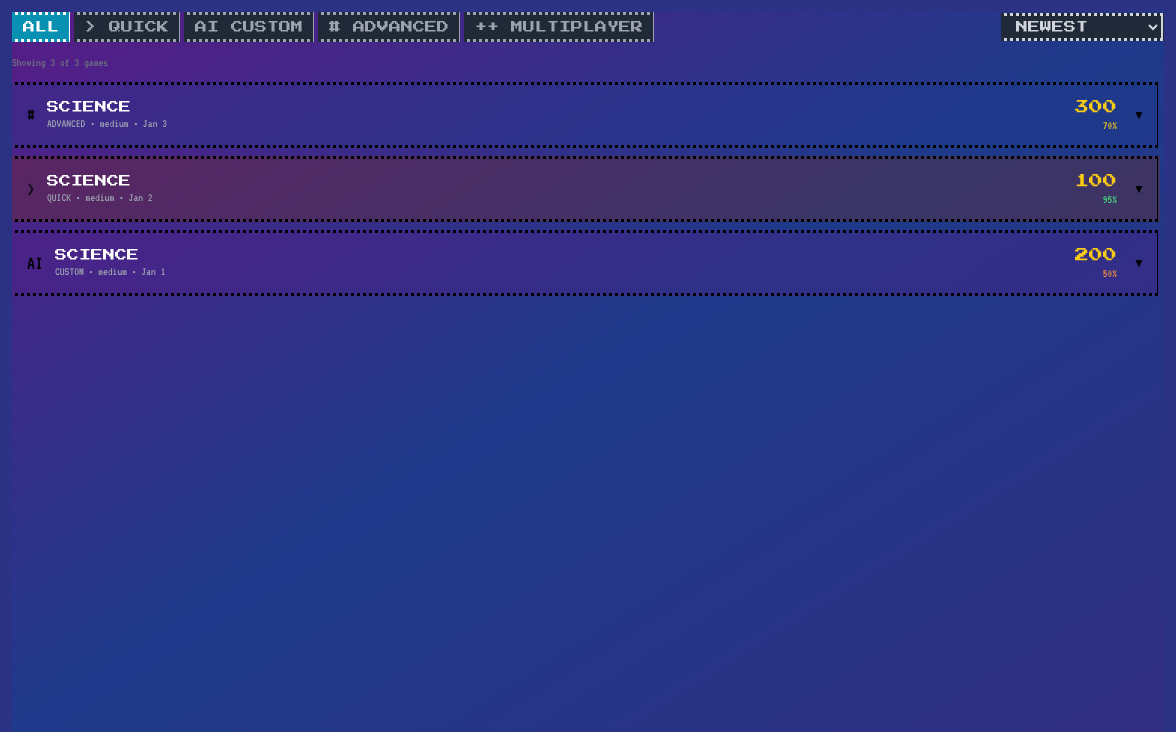
Test: GameHistoryList › with entries › filters by mode
Click the button "> QUICK" at (127, 27), box [74,12,180,42]
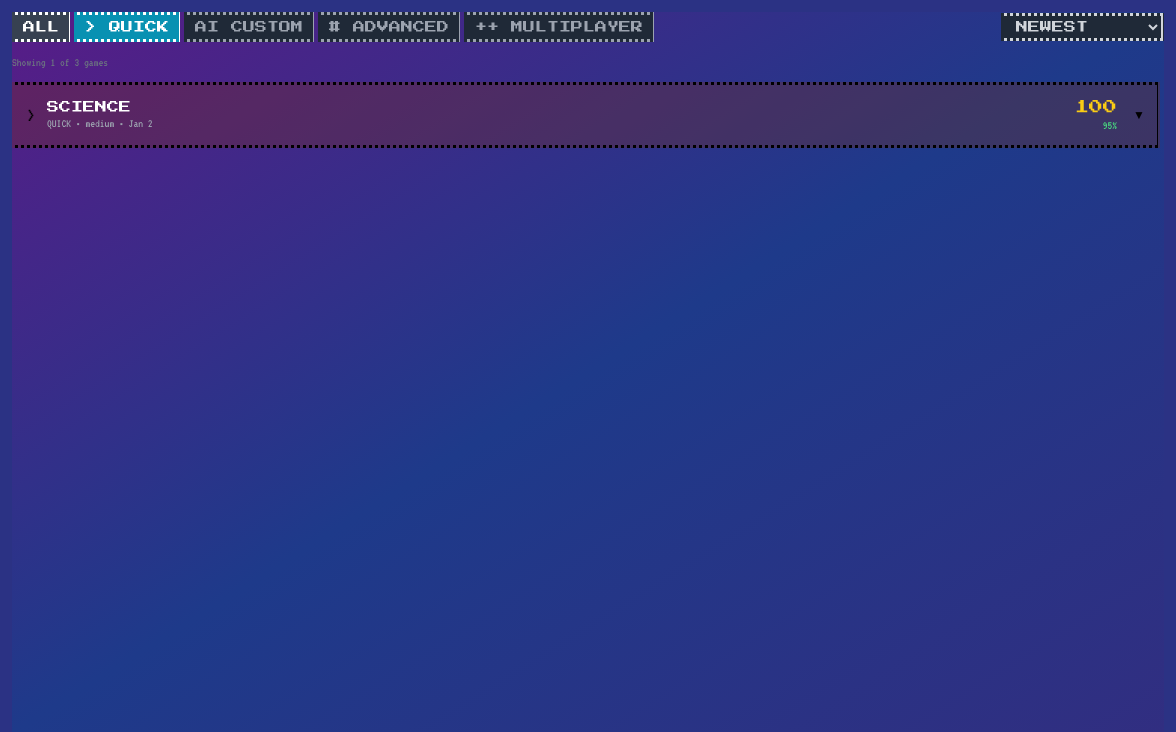
expect the text "Showing 1 of 3 games" is shown: met, box [12,56,108,68]
